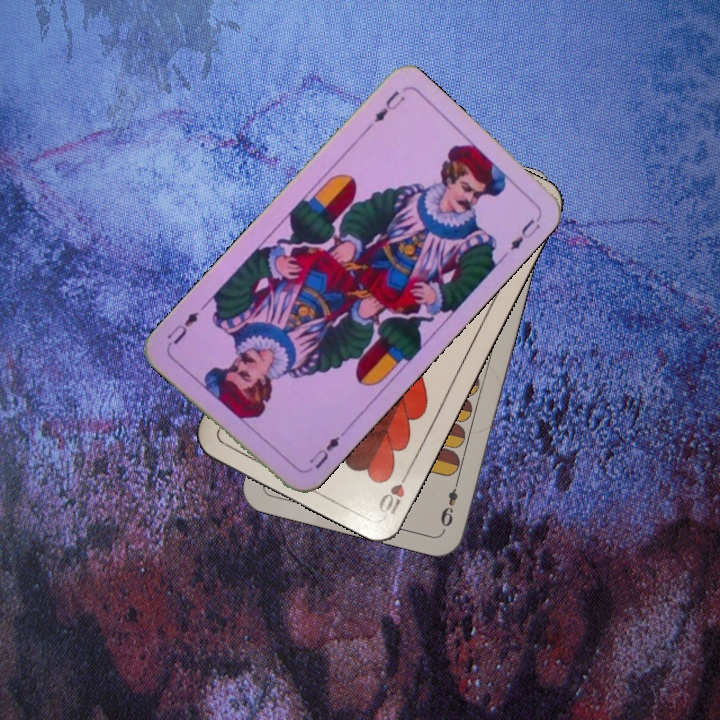E9: (436, 474, 462, 530)
EU: (304, 432, 343, 472), (370, 86, 408, 125)
H10: (373, 464, 414, 520)
